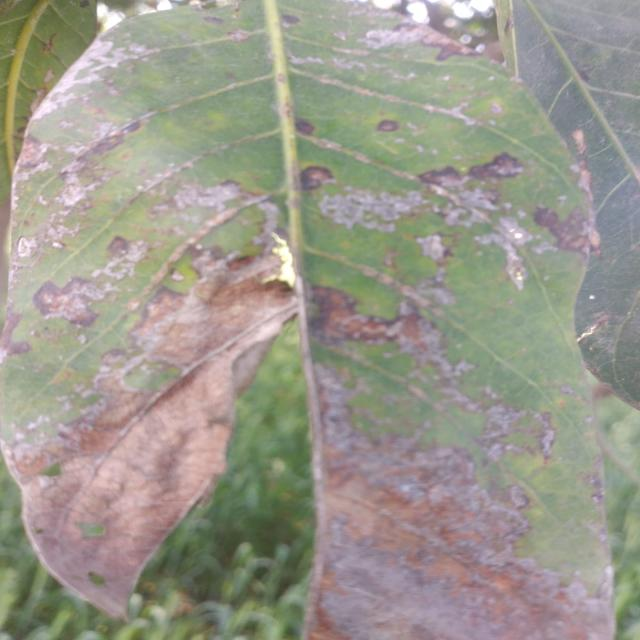Anthracnose: (317, 292, 389, 347), (484, 155, 531, 181), (294, 158, 335, 183), (288, 114, 321, 139), (375, 116, 401, 137)
Bacterial Canker: (0, 223, 395, 616)
Powdery Mildew: (283, 365, 586, 571), (34, 20, 144, 146), (322, 186, 432, 235), (167, 180, 292, 217)
